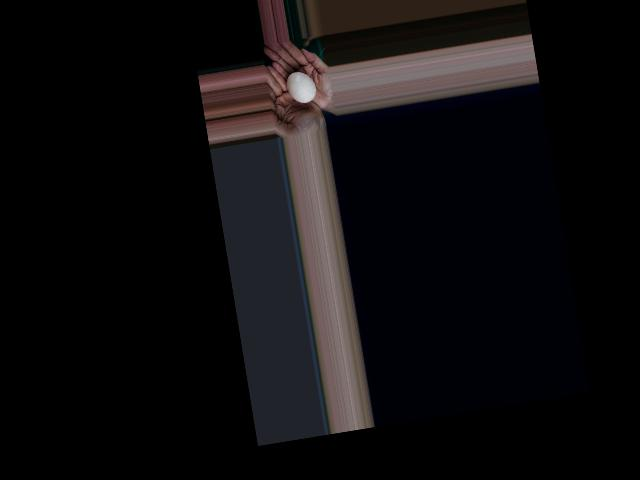egg: (285, 69, 316, 104)
